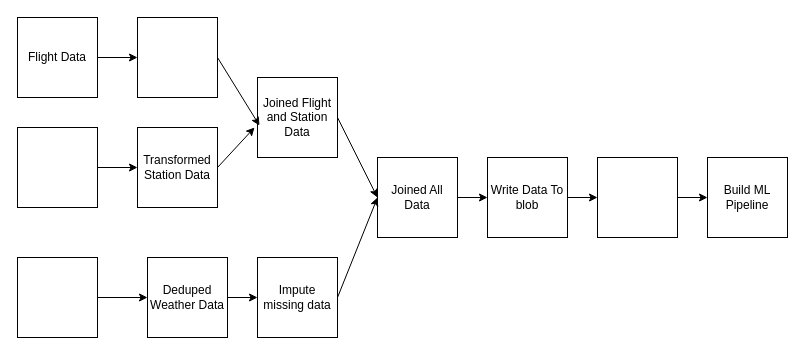
The diagram is 805 pixels wide and 355 high, and some of its shapes have lost their labels. The centre of each missing label's shape, as x and y in pixels:
Airport / Stations Data: the point at 57,167
Deduped Flight Data: the point at 177,57
EDA: the point at 637,197
Weather Data: the point at 57,297
